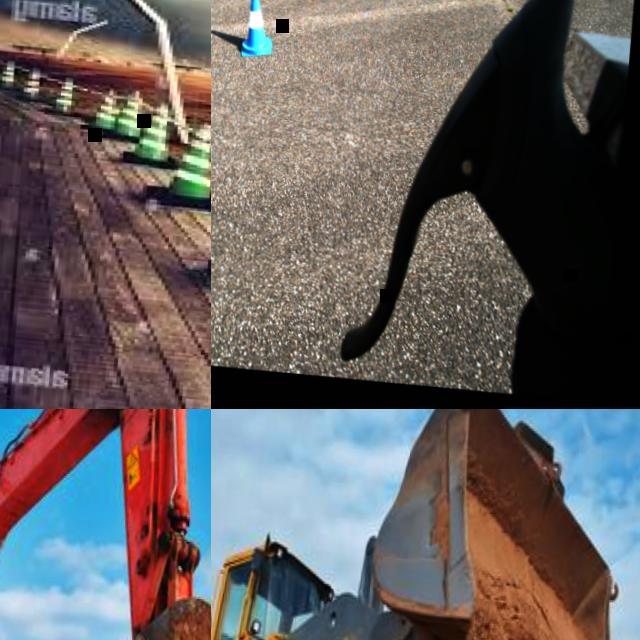Safety Cone: (137, 120, 211, 218), (121, 101, 191, 168), (106, 88, 158, 149), (85, 79, 128, 138), (239, 0, 275, 58), (13, 65, 47, 105), (45, 78, 76, 117), (0, 58, 19, 83)
vehicle: (211, 409, 640, 640), (0, 409, 211, 640)
